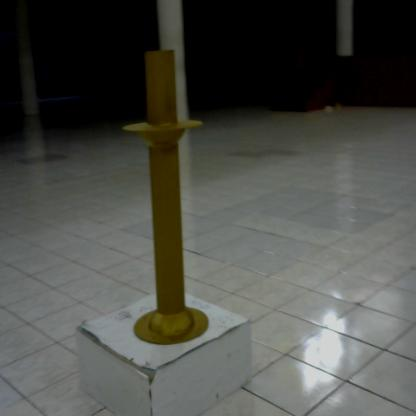pole: (119, 41, 217, 352)
